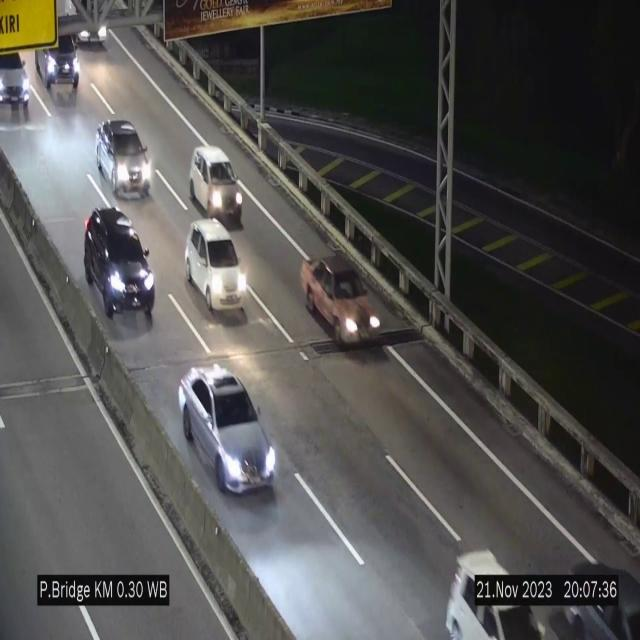Car: (178, 364, 278, 492), (445, 540, 540, 640), (301, 253, 383, 353), (84, 208, 154, 322), (562, 552, 640, 640), (185, 219, 247, 313), (95, 119, 154, 200), (190, 146, 242, 224), (34, 26, 87, 98), (0, 44, 38, 117), (69, 0, 116, 44)
